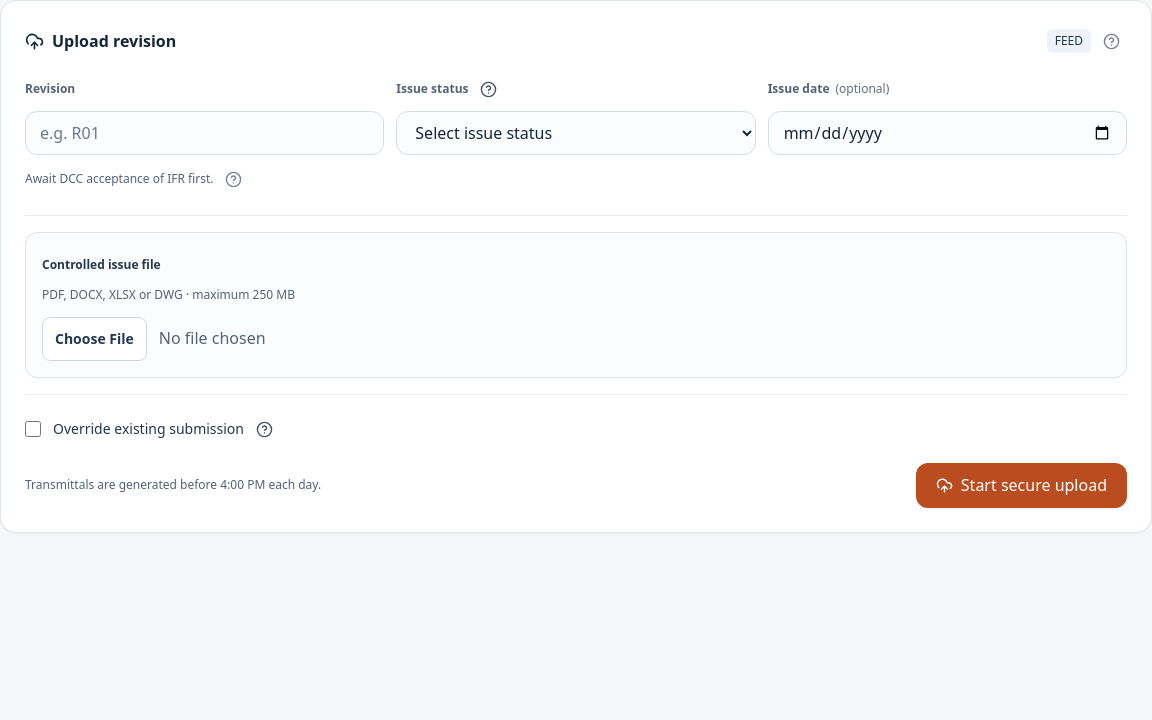
Test: submission override checkbox › fails closed when the status check cannot be reached
Type "A" into the field labelled "Revision" at (205, 133), box [25, 111, 384, 155]
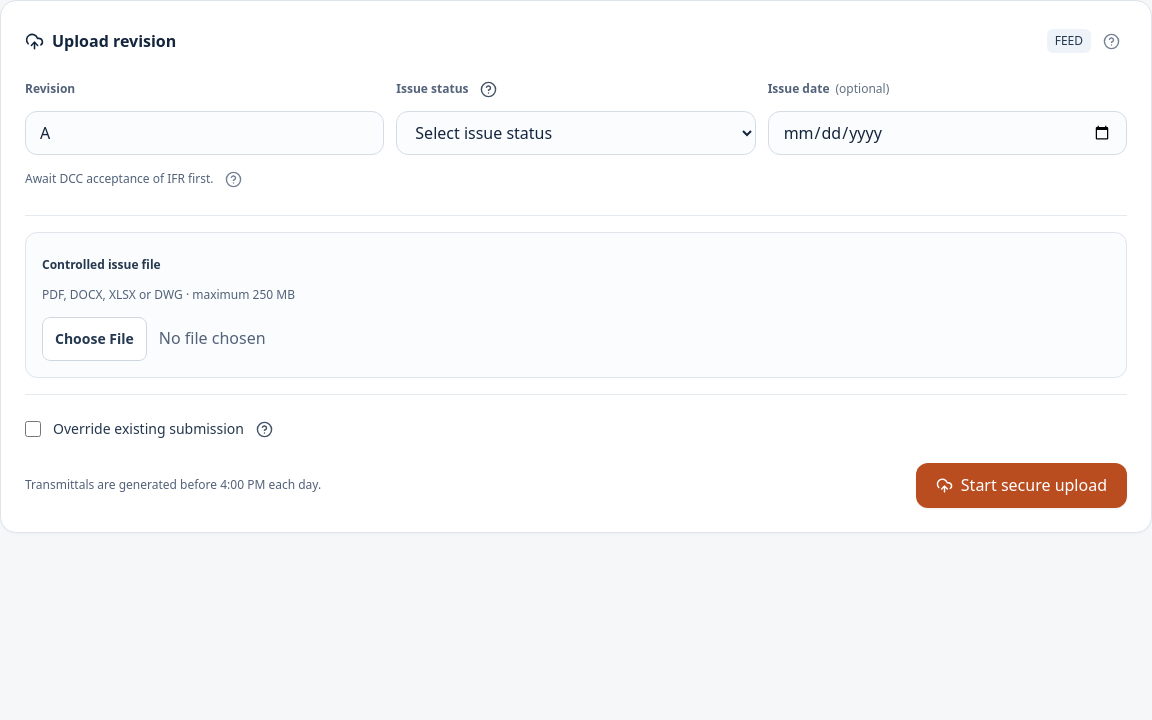
Select "Issued for Review (IFR)" in the dropdown at (576, 133), box [396, 111, 756, 155]
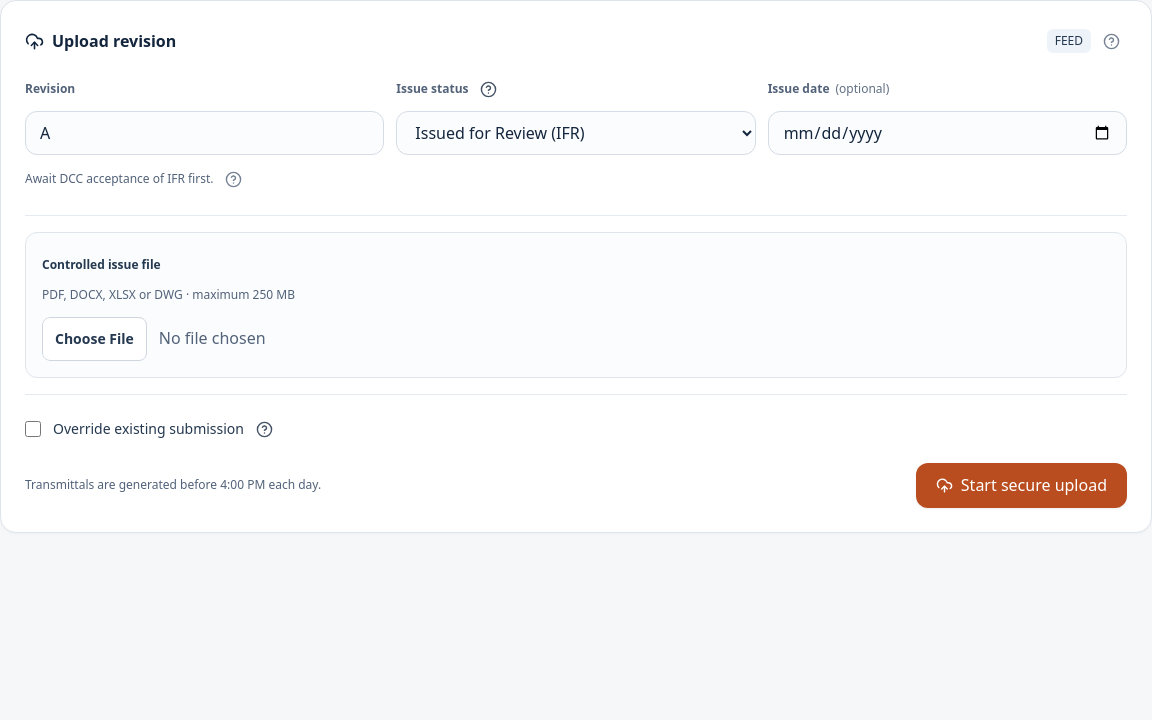
Click the checkbox at (33, 429), box [25, 421, 41, 437]
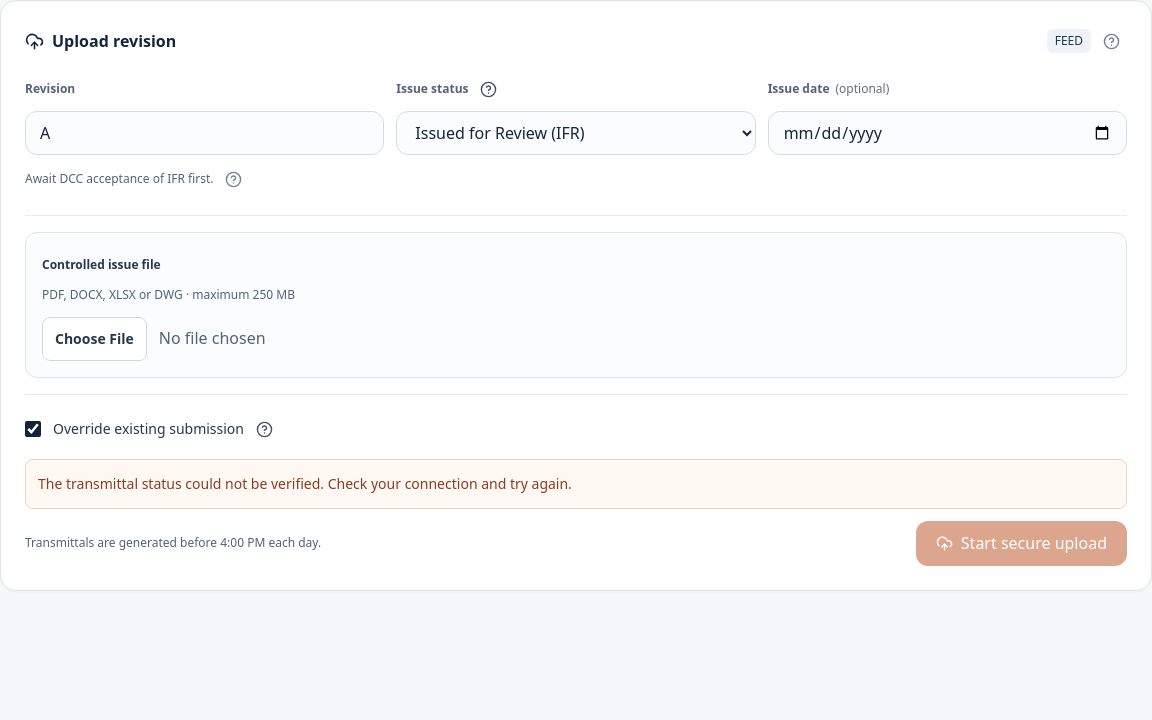
Expected: the text "transmittal status could not be verified" is shown, [38, 474, 572, 493]
Expected: the button "Start secure upload" is disabled, [916, 521, 1127, 566]
